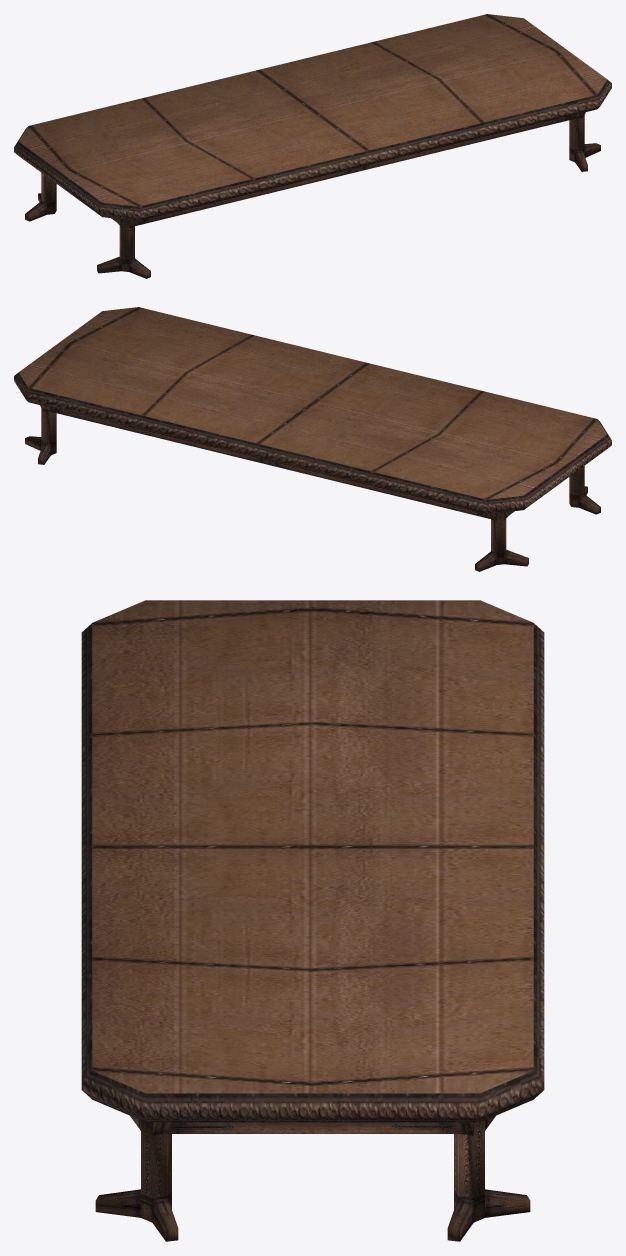
The model's file is NW_CITY_TABLE_WAR_01.glb.
3 views of the same model, one above another, from view 1: azimuth 30°, elevation 25°; view 2: azimuth 150°, elevation 25°; view 3: azimuth 270°, elevation 25° (orthographic). The views are drawn at different scales.
Visible parts, largest first — view 1: Mesh; view 2: Mesh; view 3: Mesh.
Part boxes in pixels (x1,y1,x2,y2): Mesh: (14, 14, 611, 278); Mesh: (14, 307, 611, 571); Mesh: (81, 600, 544, 1241).
Size of the model in its own units: 5.57 by 0.7751 by 2.17.
Materials: 1 (1 with a texture image).
